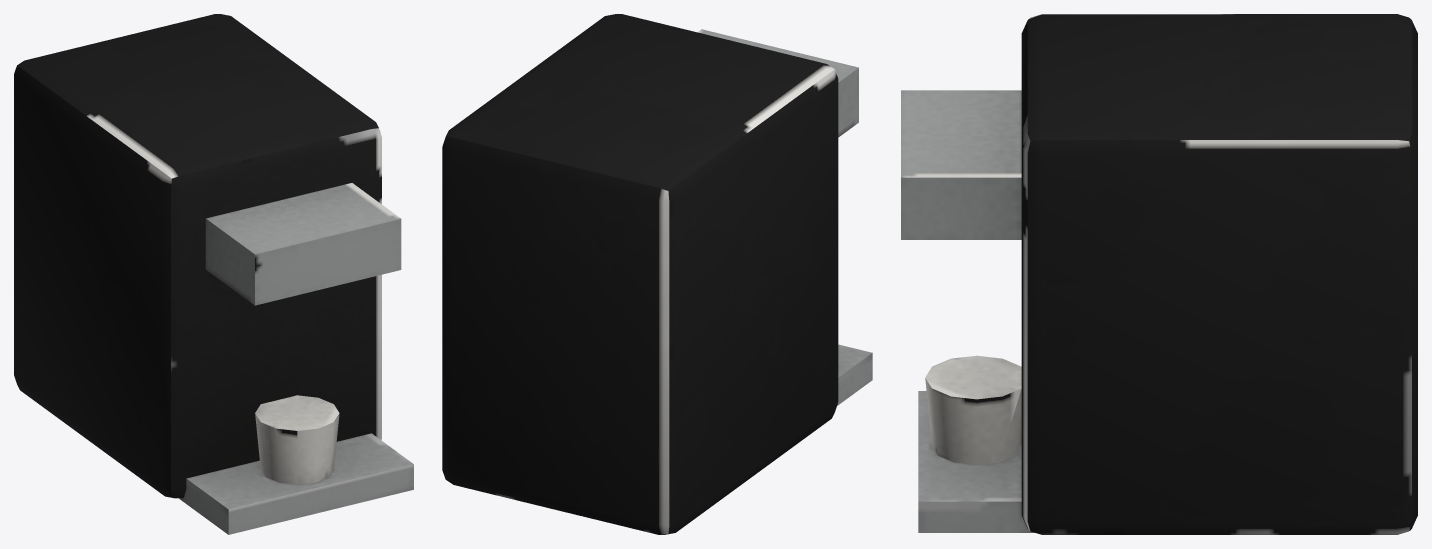
File: H_CoffeeMachine.fbx
The picture shows the model from 3 angles, left to right: view 1: azimuth 30°, elevation 25°; view 2: azimuth 150°, elevation 25°; view 3: azimuth 270°, elevation 25°; orthographic projection. The views are drawn at different scales.
Visible parts, largest first — view 1: H_CoffeeMachine; view 2: H_CoffeeMachine; view 3: H_CoffeeMachine.
Part boxes in pixels (x1,y1,x2,y2): H_CoffeeMachine: (14, 14, 413, 534); H_CoffeeMachine: (442, 14, 872, 534); H_CoffeeMachine: (901, 14, 1417, 534).
Bounding box in the file's own units: 90 × 130 × 150.
1 material, 1 textured.
